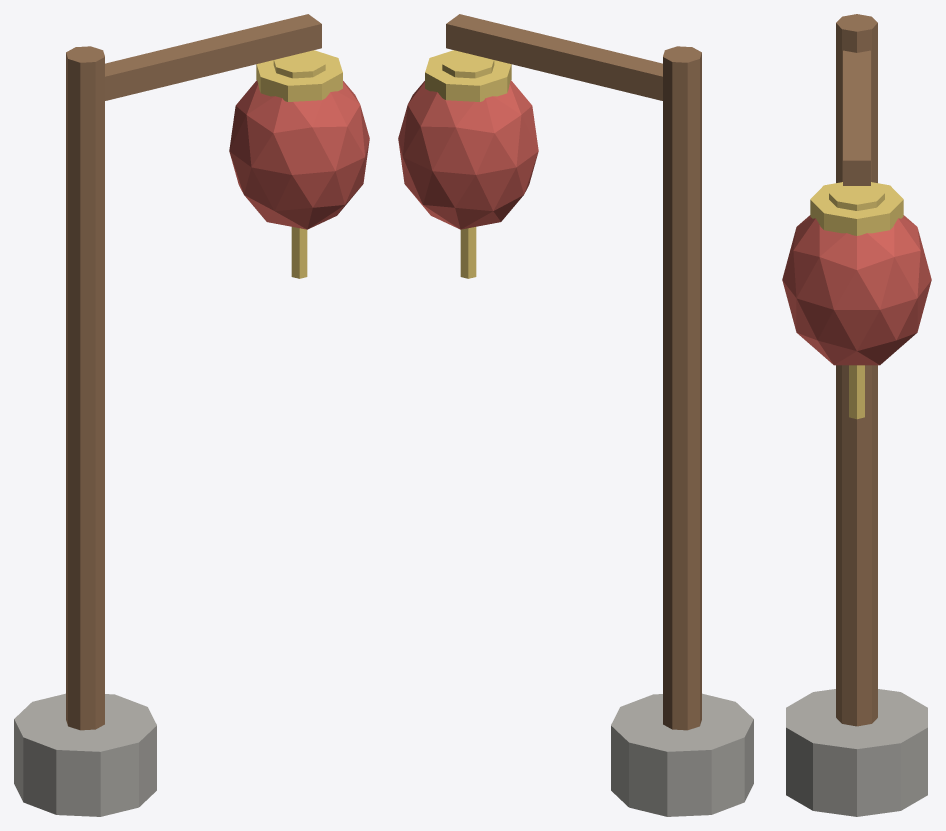
Rendered from FarolHan.fbx.
The picture shows the model from 3 angles, left to right: view 1: azimuth 30°, elevation 25°; view 2: azimuth 150°, elevation 25°; view 3: azimuth 270°, elevation 25°; orthographic projection. The views are drawn at different scales.
Visible parts, largest first — view 1: FarolHan; view 2: FarolHan; view 3: FarolHan.
Part boxes in pixels (x1,y1,x2,y2): FarolHan: [14, 14, 369, 816]; FarolHan: [398, 14, 753, 816]; FarolHan: [782, 14, 931, 816].
Bounding box in the file's own units: 0.8622 × 1.8 × 0.32.
